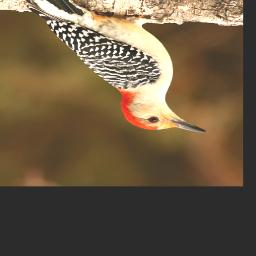Woodpecker: (0, 0, 206, 133)
